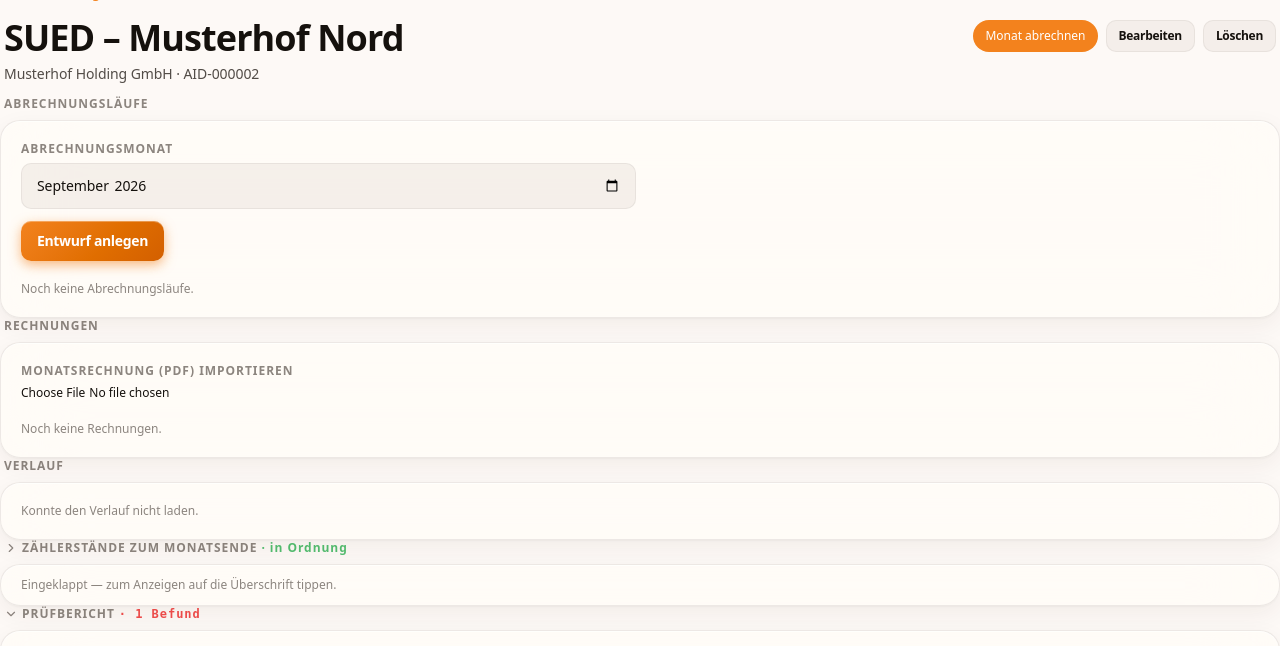
Scenario: BillingCircleDetailPage › klappt Zählerstände ohne Befund zu und den Prüfbericht mit Befund auf
Check: the button "Prüfbericht · 1 Befund" is shown, box [4,606,1276,622]
What coordinates should you click on to do the following:
click the button "Zählerstände zum Monatsende · in Ordnung"
I would click on:
 (140, 548)
Its box is [4,540,1276,556].
(page scrolled)
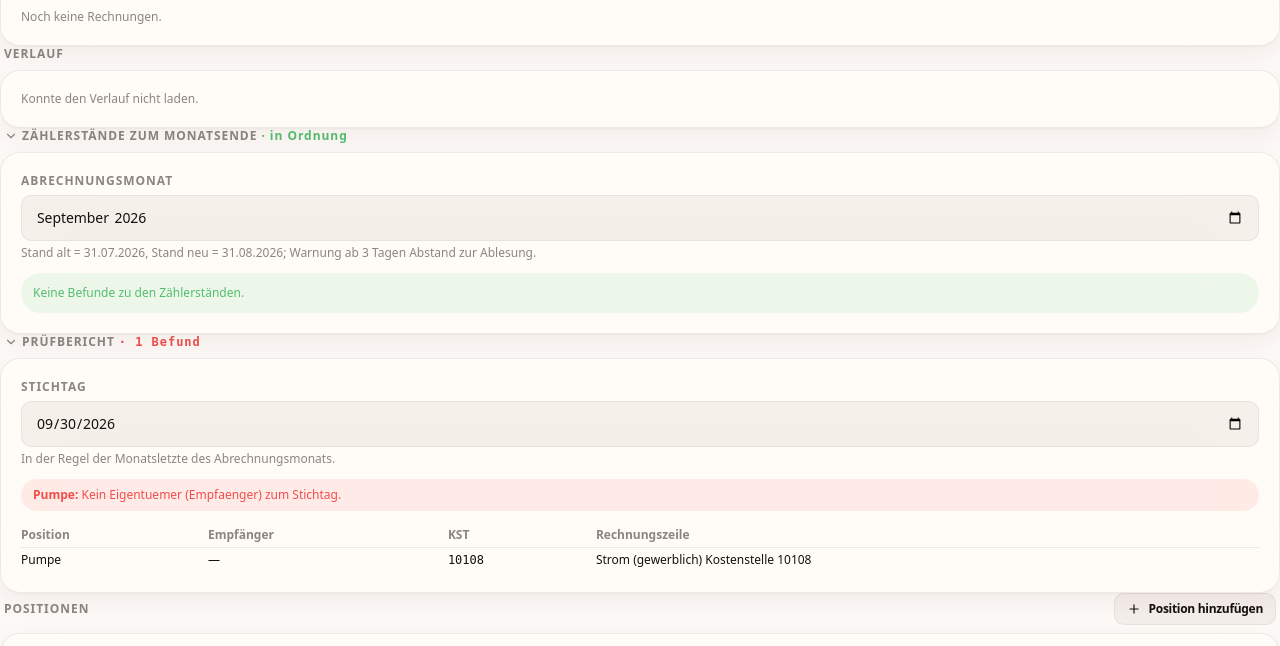
Check: the button "Zählerstände zum Monatsende · in Ordnung" is expanded, box [4,128,1276,144]
Check: the field labelled "Abrechnungsmonat" is shown, box [36,196,1244,240]
What coordinates should you click on to do the following:
click the button "Prüfbericht · 1 Befund"
I would click on:
 (68, 342)
Its box is [4,334,1276,350].
(page scrolled)
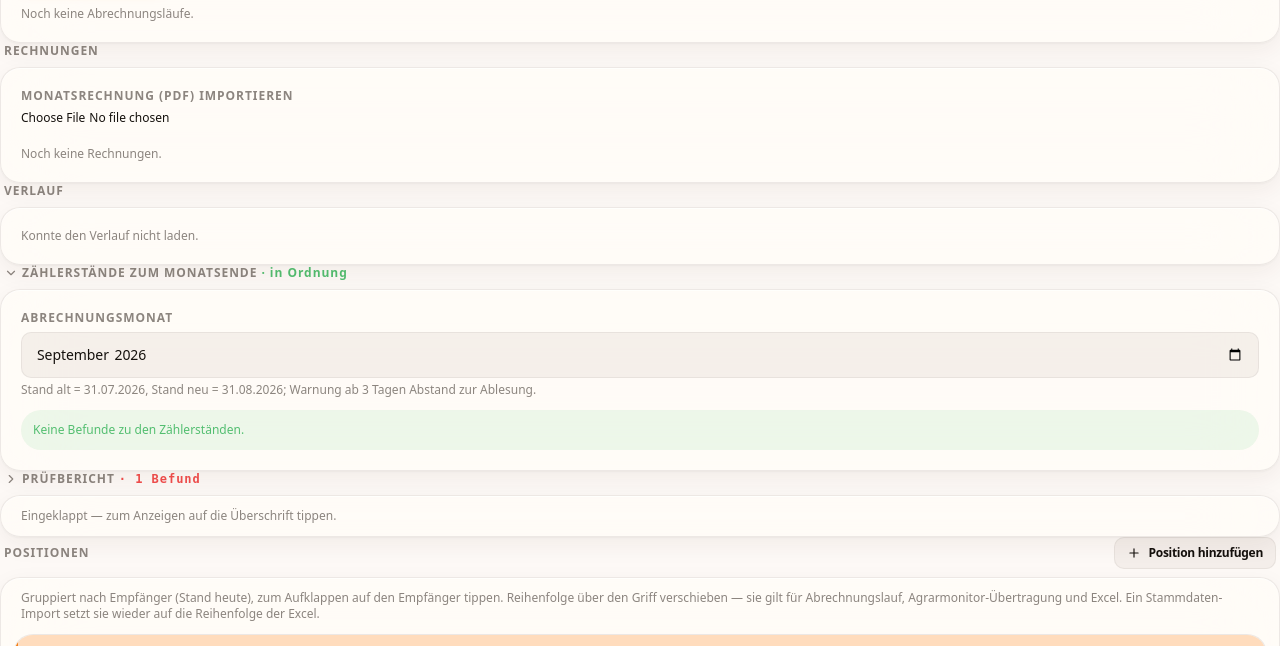
Check: the list item "Kein Eigentuemer" is gone
